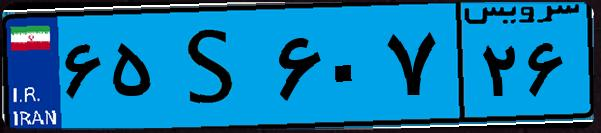0: (330, 28, 385, 110)
2: (475, 38, 525, 113)
5: (110, 28, 158, 98)
6: (270, 28, 330, 110), (57, 26, 110, 100), (525, 38, 570, 115)
7: (385, 28, 445, 110)
S: (158, 12, 270, 120)
